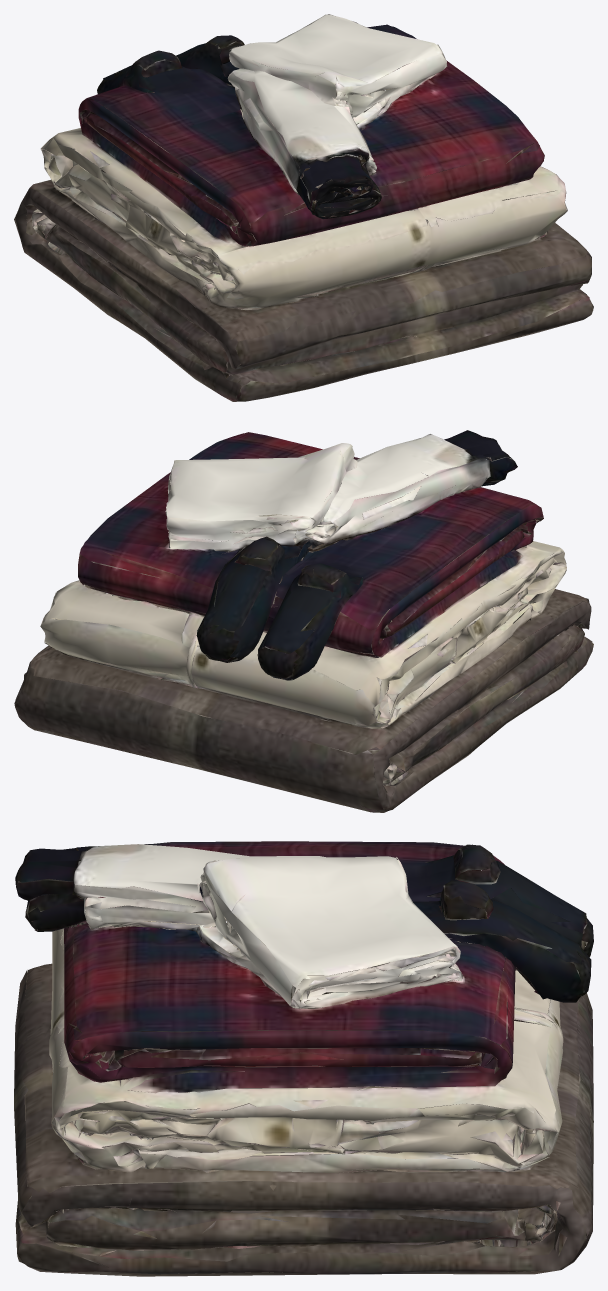
The model's file is int-textile-personal-cluster.glb.
The picture shows the model from 3 angles, top to bottom: view 1: azimuth 30°, elevation 25°; view 2: azimuth 150°, elevation 25°; view 3: azimuth 270°, elevation 25°; orthographic projection. The views are drawn at different scales.
Visible parts, largest first — view 1: Mesh_0; view 2: Mesh_0; view 3: Mesh_0.
Boxes of the visible parts, x1=… form: Mesh_0: x1=14, y1=14, x2=593, y2=401; Mesh_0: x1=14, y1=430, x2=593, y2=812; Mesh_0: x1=14, y1=841, x2=593, y2=1276.
Size of the model in its own units: 1.81 by 1.11 by 1.9.
1 material, 1 textured.
